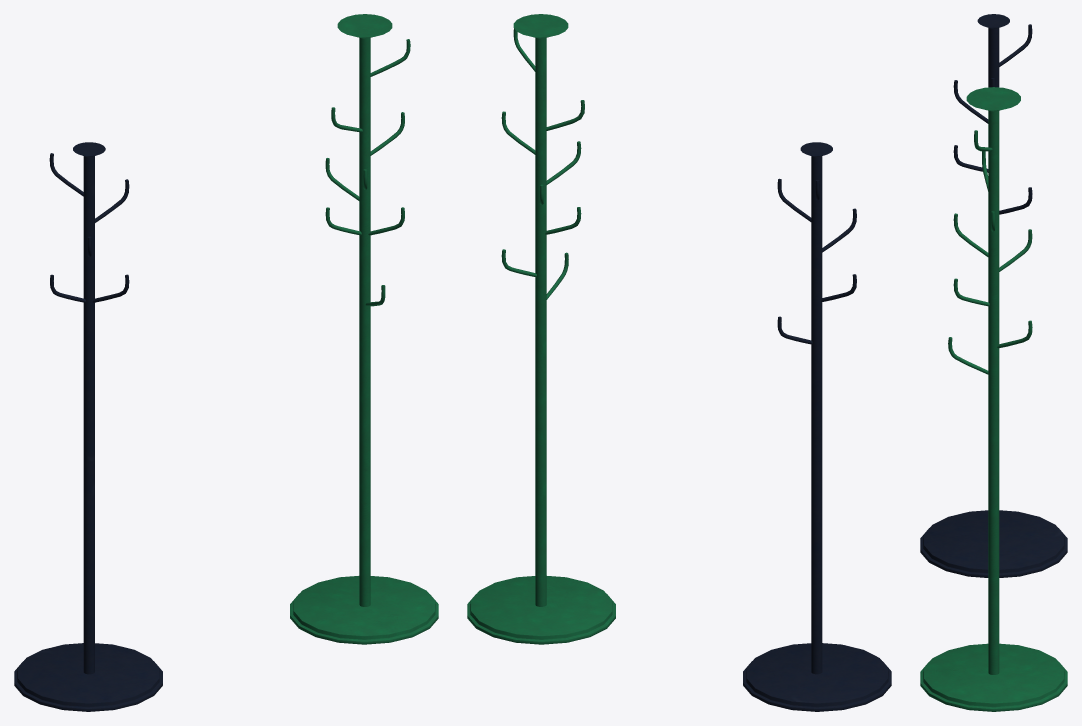
File: percheros_abrigos_ok.glb
The picture shows the model from 3 angles, left to right: view 1: azimuth 30°, elevation 25°; view 2: azimuth 150°, elevation 25°; view 3: azimuth 270°, elevation 25°; orthographic projection.
Visible parts, largest first — view 1: Cylinder004_INSTALOD_INSTALOD, Cylinder002_INSTALOD_INSTALOD; view 2: Cylinder004_INSTALOD_INSTALOD, Cylinder002_INSTALOD_INSTALOD; view 3: Cylinder004_INSTALOD_INSTALOD, Cylinder002_INSTALOD_INSTALOD.
Part boxes in pixels (box(x1,y1,x2,y2)): Cylinder004_INSTALOD_INSTALOD: box(290, 14, 438, 644); Cylinder002_INSTALOD_INSTALOD: box(14, 142, 162, 711); Cylinder004_INSTALOD_INSTALOD: box(467, 14, 615, 644); Cylinder002_INSTALOD_INSTALOD: box(743, 142, 891, 711); Cylinder004_INSTALOD_INSTALOD: box(920, 87, 1067, 711); Cylinder002_INSTALOD_INSTALOD: box(920, 14, 1067, 577).
Size of the model in its own units: 128 by 177 by 40.6.
2 materials, 2 textured.
